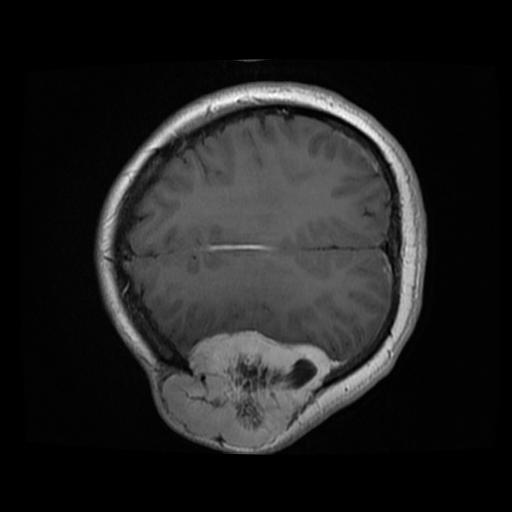meningioma: (163, 331, 331, 447)
